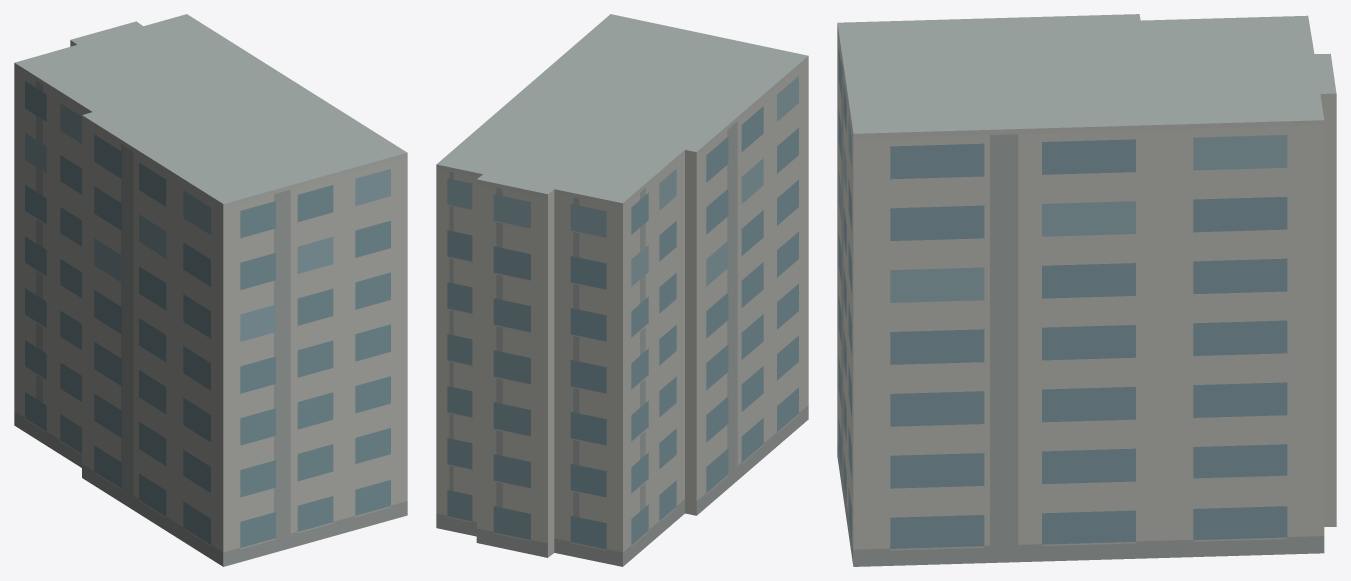
Rendered from survey-upis-32878095.glb.
3 renders of one model, left to right at view 1: azimuth 30°, elevation 25°; view 2: azimuth 150°, elevation 25°; view 3: azimuth 270°, elevation 25°, orthographic. The views are drawn at different scales.
Parts seen in each view (by area): view 1: survey-upis-32878095.tmp; view 2: survey-upis-32878095.tmp; view 3: survey-upis-32878095.tmp.
Part boxes in pixels (x1,y1,x2,y2): survey-upis-32878095.tmp: (14, 14, 407, 566); survey-upis-32878095.tmp: (436, 14, 808, 566); survey-upis-32878095.tmp: (837, 14, 1336, 566).
Bounding box in the file's own units: 12.11 × 20.4 × 21.32.
